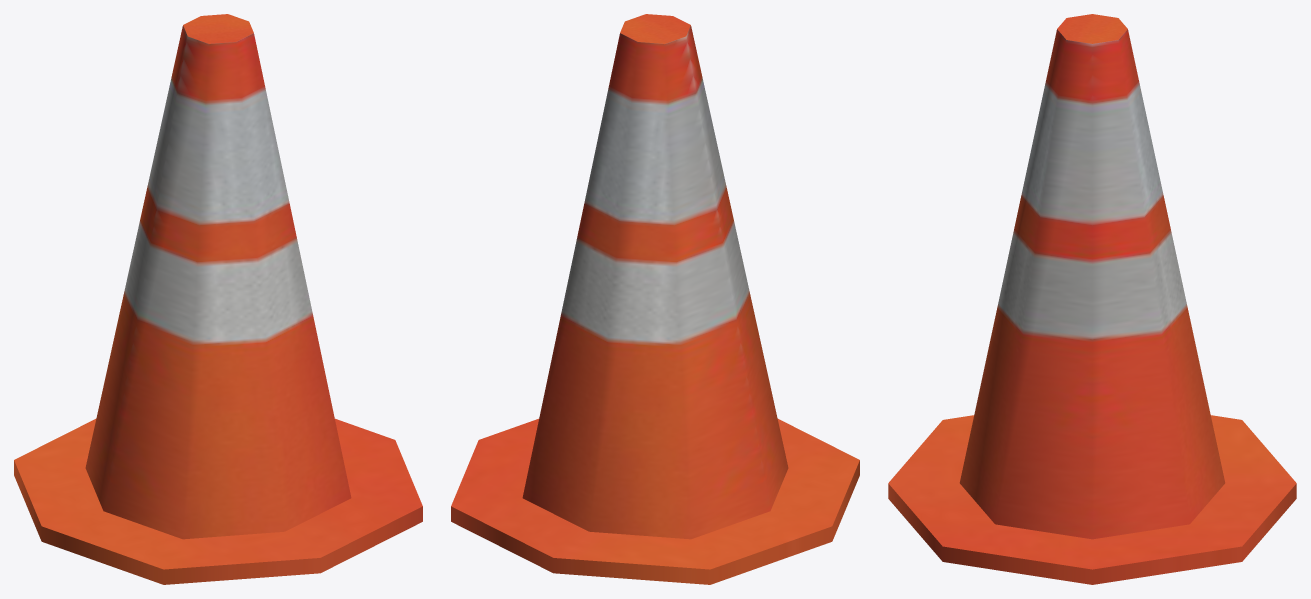
Rendered from traffic-cones.fbx.
3 renders of one model, left to right at view 1: azimuth 30°, elevation 25°; view 2: azimuth 150°, elevation 25°; view 3: azimuth 270°, elevation 25°, orthographic.
Parts seen in each view (by area): view 1: Plane.062; view 2: Plane.062; view 3: Plane.062.
Boxes of the visible parts, x1,y1,x2,y2 form: Plane.062: (14, 14, 422, 584); Plane.062: (451, 14, 859, 584); Plane.062: (888, 14, 1296, 584).
Bounding box in the file's own units: 87.28 × 111 × 87.28.
